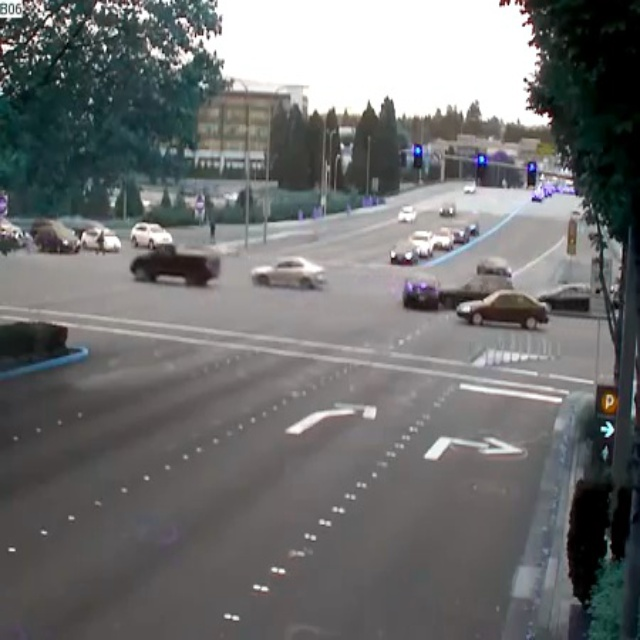acc: (395, 264, 463, 316)
